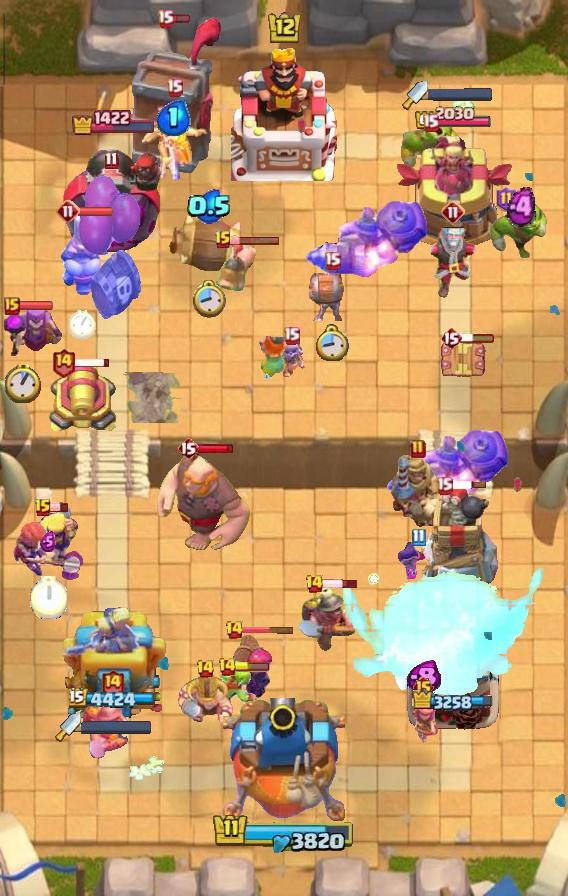archer: (406, 699, 440, 745)
bar: (229, 235, 281, 246), (241, 625, 295, 634), (322, 578, 359, 590), (460, 332, 496, 344), (198, 443, 235, 454), (74, 357, 111, 368), (18, 300, 54, 311), (78, 206, 114, 217), (234, 662, 270, 672), (451, 480, 487, 490), (50, 502, 69, 513), (172, 13, 191, 24)
bar-level: (100, 668, 125, 699), (51, 347, 76, 378), (441, 200, 465, 224), (56, 199, 80, 223), (412, 675, 435, 699), (496, 186, 517, 212), (177, 436, 199, 460), (440, 326, 462, 350), (196, 659, 215, 679), (218, 657, 237, 677), (225, 620, 244, 640), (305, 574, 324, 594), (34, 498, 52, 518), (214, 230, 232, 250), (436, 476, 453, 495), (283, 326, 300, 345), (324, 251, 341, 270), (422, 113, 439, 132), (166, 78, 183, 97), (157, 9, 174, 28), (410, 439, 426, 459), (4, 297, 20, 315), (411, 528, 426, 547), (104, 151, 119, 170)
barbarian-barrel: (167, 212, 251, 274)
barbarian-evolution: (31, 507, 80, 564)
cannoneer-tower: (62, 138, 166, 256)
clock: (30, 576, 67, 619), (5, 363, 41, 403), (192, 280, 226, 319), (315, 324, 349, 361), (69, 309, 96, 339)
dagger-duchess-tower: (391, 132, 515, 256), (60, 607, 168, 731)
dagger-duchess-tower-bar: (81, 720, 153, 734), (428, 88, 492, 101)
dirt: (123, 372, 182, 423)
elite-barbarian: (177, 673, 233, 727)
elixir: (187, 189, 232, 224), (406, 660, 441, 695), (157, 100, 191, 136), (507, 187, 536, 228), (40, 531, 56, 552)
firecracker-evolution: (218, 631, 274, 703)
goblin: (216, 664, 260, 714)
goblin-brawler: (490, 202, 552, 258), (401, 121, 459, 175)
ice-wizard: (410, 221, 496, 299)
king-tower: (223, 698, 345, 826), (231, 45, 337, 181)
king-tower-bar: (212, 812, 356, 854)
miner: (294, 581, 358, 653), (81, 688, 143, 760)
mother-witch: (0, 302, 64, 360)
queen-tower: (404, 617, 502, 731)
ram-rider: (60, 213, 104, 295)
royal-hog: (216, 243, 258, 293)
skeleton-evolution: (392, 540, 444, 582), (275, 337, 307, 377)
tesla: (439, 337, 489, 383)
tower-bar: (71, 109, 157, 136), (412, 689, 495, 714), (69, 688, 159, 711), (414, 106, 492, 131)
valkyrie: (253, 331, 291, 383)
valkyrie-evolution: (12, 518, 84, 581)
wall-breaker: (308, 273, 356, 321)
